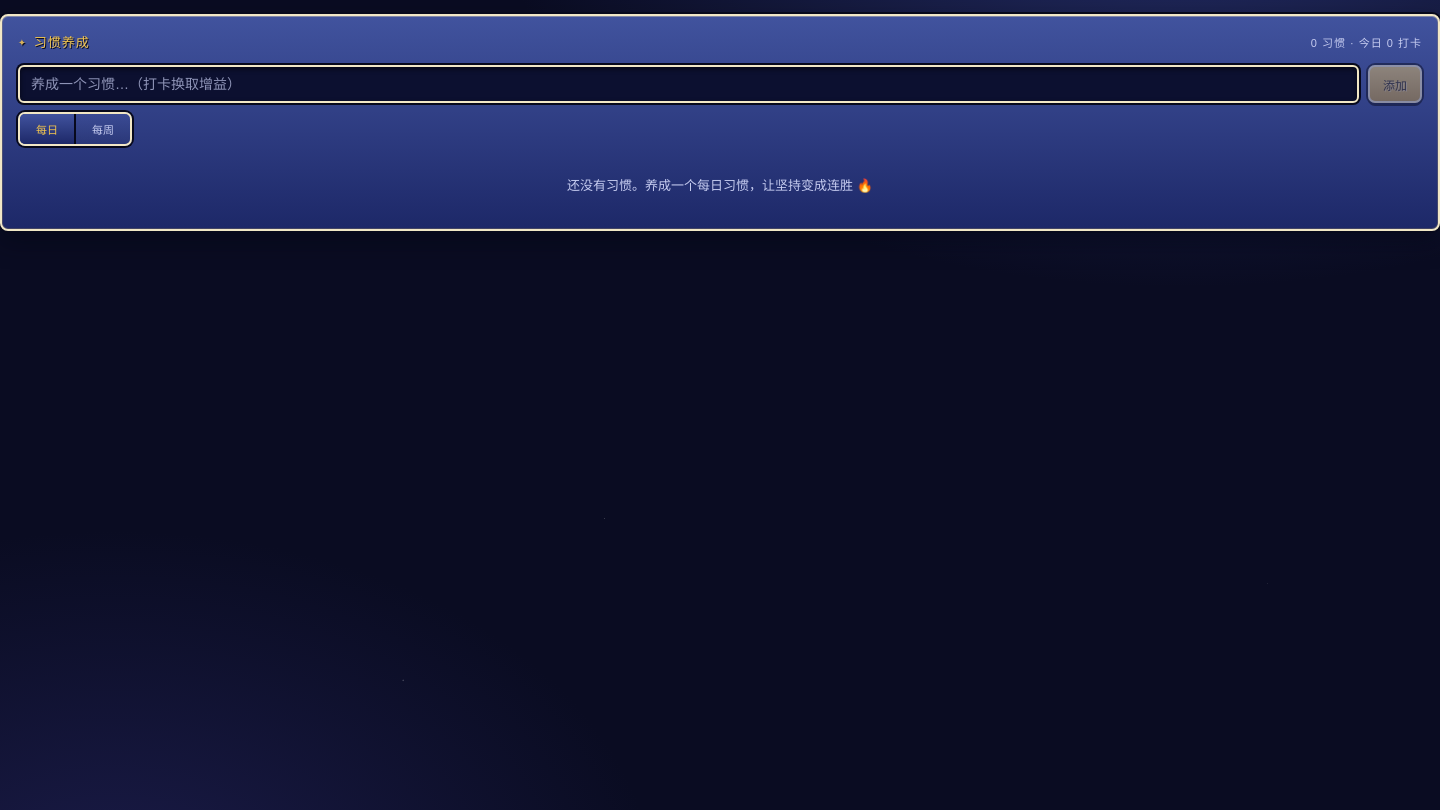
Test: HabitPanel + BuffChoiceModal › a weekly habit cannot be added until a weekday is picked
The image size is (1440, 810).
Type "读书" into the field with placeholder "养成一个习惯…（打卡换取增益）" at (688, 84), box [18,65,1359,103]
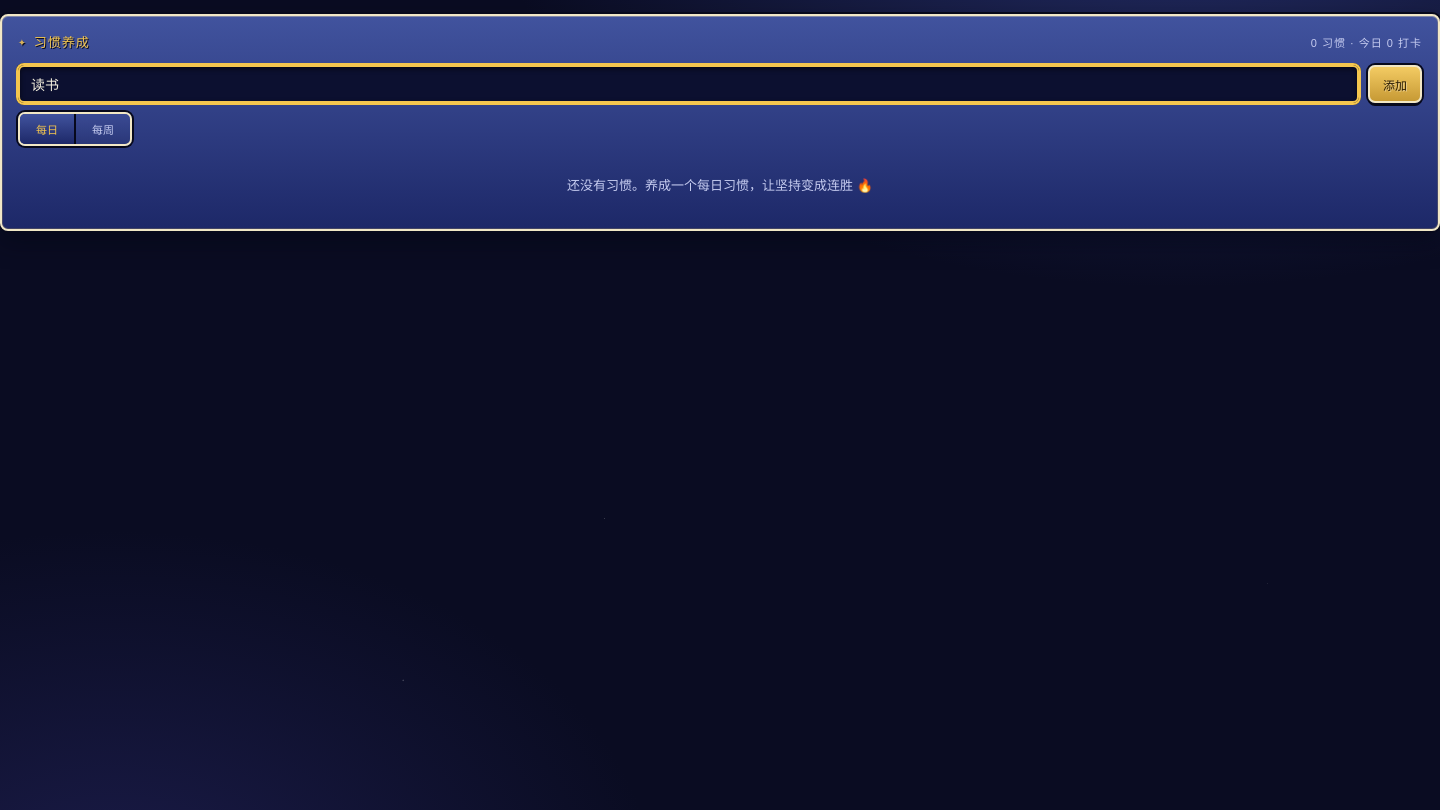
Click the tab "每周" at (102, 129), box [74,114,130,144]
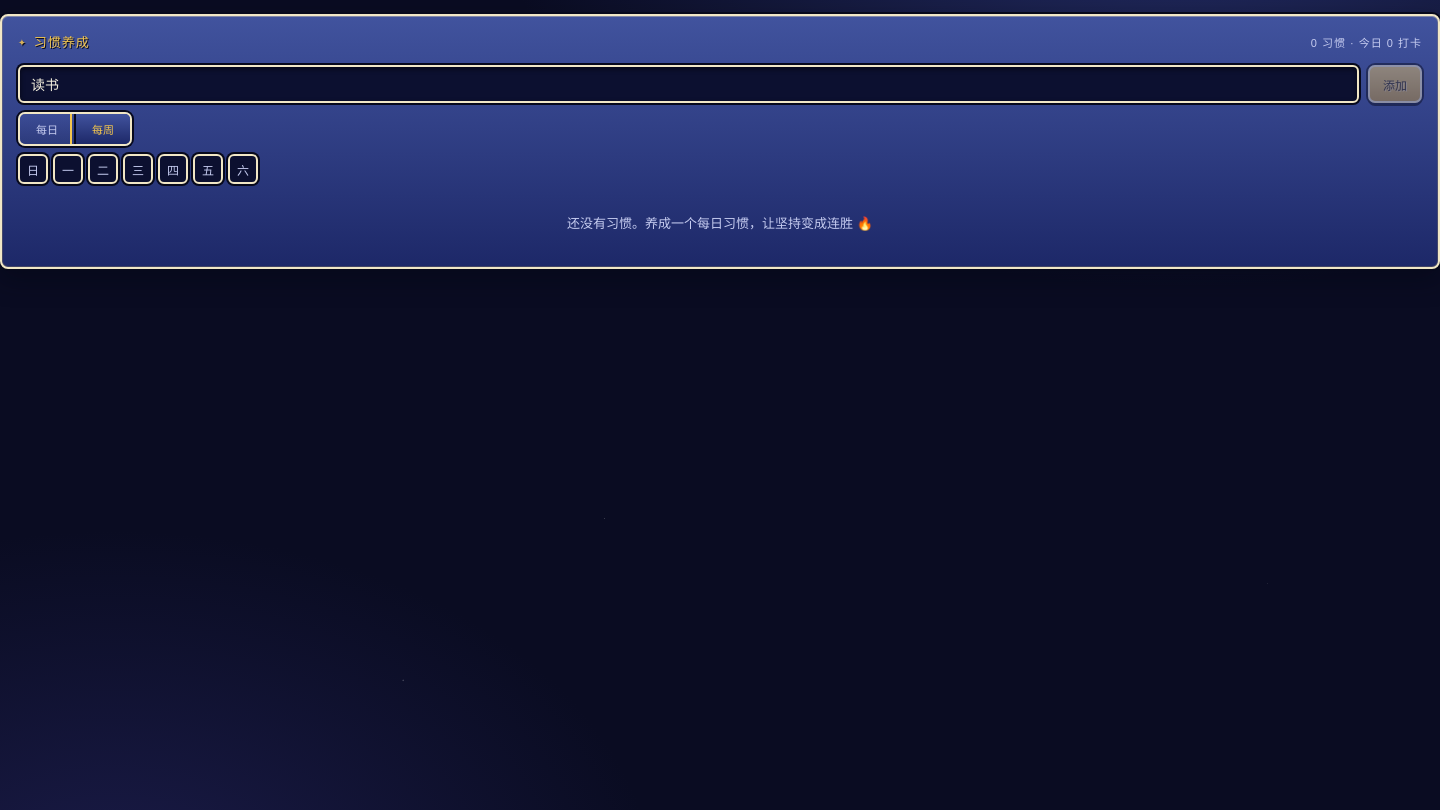
Now the button "添加" is disabled, box [1368,65,1422,103]
Click the button "三" at (138, 169), box [123,154,153,184]
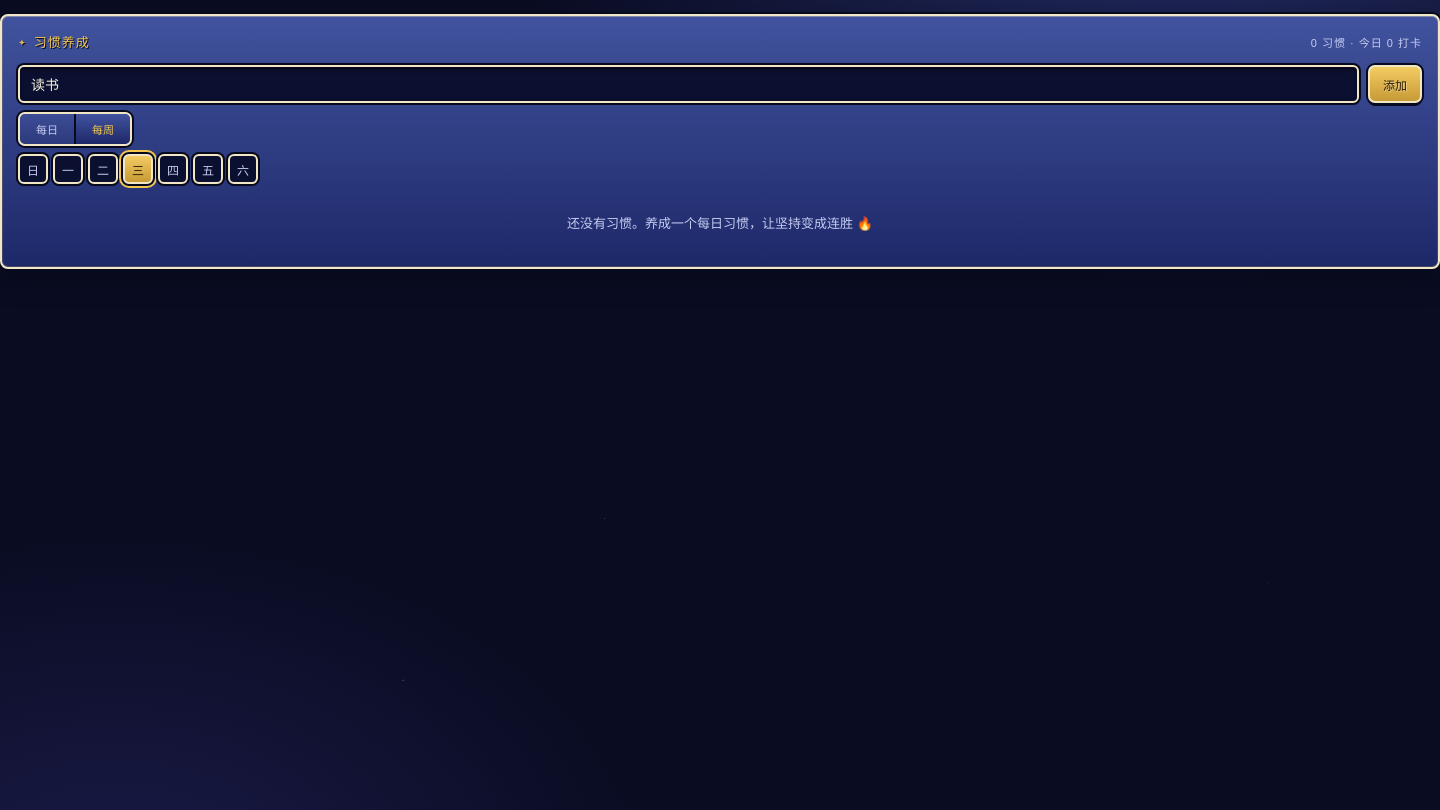
Now the button "添加" is enabled
Click the button "添加" at (1395, 84), box [1368,65,1422,103]
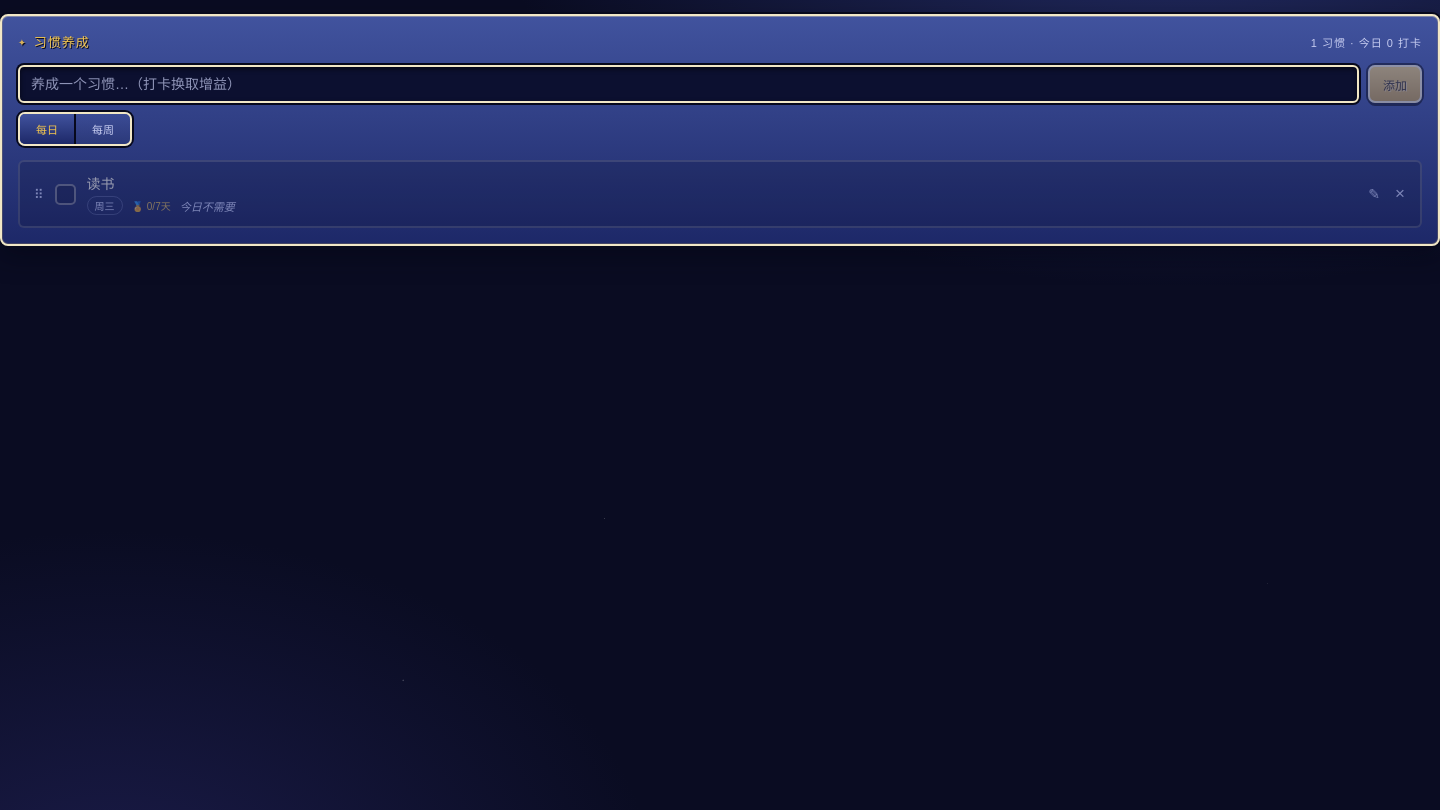
Now the text "读书" is shown, box [86,176,114,192]
